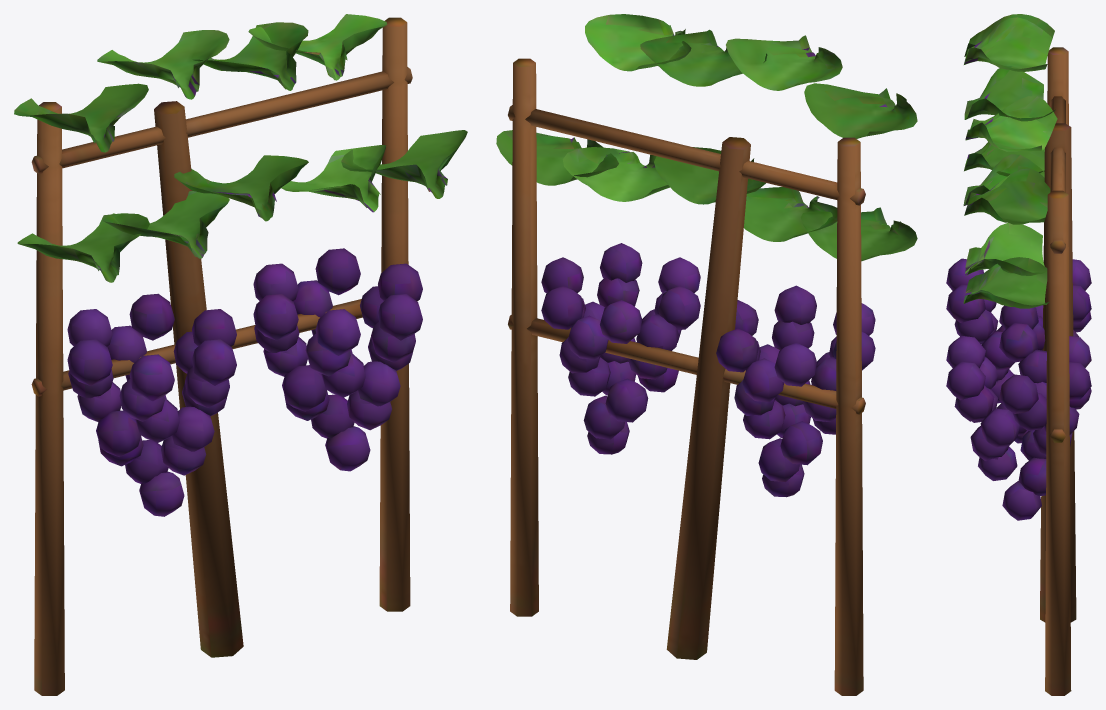
The model's file is crop_grape.glb.
The picture shows the model from 3 angles, left to right: view 1: azimuth 30°, elevation 25°; view 2: azimuth 150°, elevation 25°; view 3: azimuth 270°, elevation 25°; orthographic projection. The views are drawn at different scales.
Visible parts, largest first — view 1: crop_grape, fruit; view 2: crop_grape, fruit; view 3: crop_grape, fruit.
Part boxes in pixels (box(x1,y1,x2,y2)): crop_grape: box(14, 14, 467, 695); fruit: box(67, 248, 422, 516); crop_grape: box(496, 14, 917, 695); fruit: box(541, 243, 875, 497); crop_grape: box(963, 14, 1076, 695); fruit: box(946, 258, 1091, 520).
Size of the model in its own units: 0.3364 by 0.4626 by 0.1115.
1 material, 1 textured.
